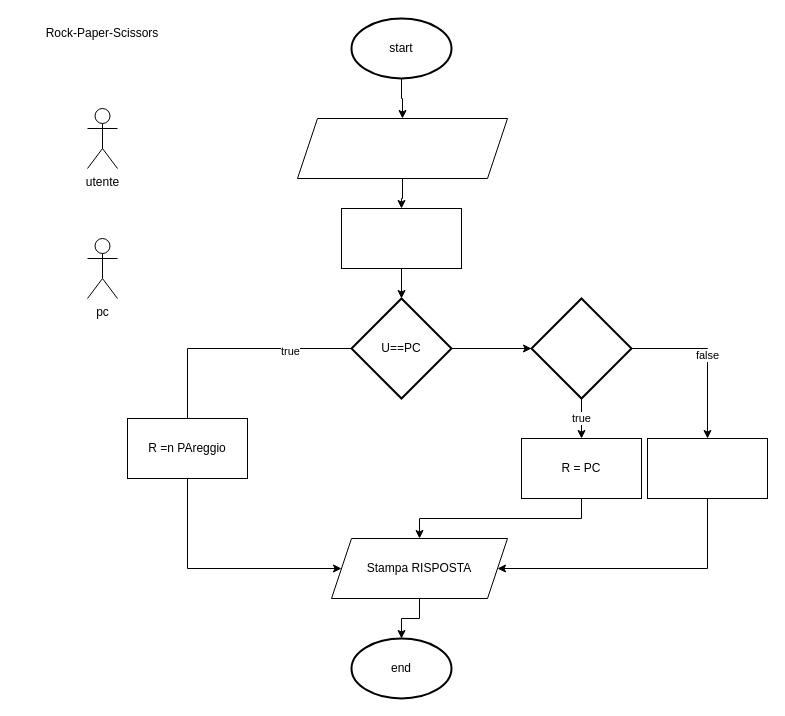
Some shapes in this 785 by 716 pixel diagram are drawn without their labels. Here are the shapes that lost their labels. From the top down, the centre of each, then its label:
At (402,148): "Scelta utente PFC".
At (401,238): "Scelta random PC".
At (581,348): "U=C PC = F".
At (707,468): "R = U".
